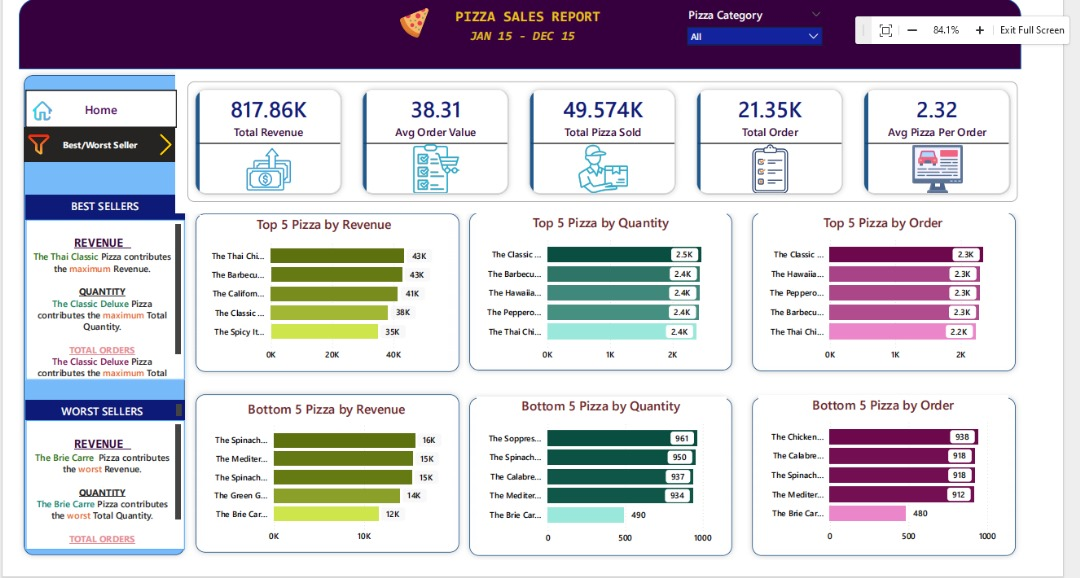

Layout of this report page (visuals, bound fields, positions):
{"tool":"powerbi","page":{"name":"Best/Worst Seller","canvas":[1500,820],"ordinal":1},"visuals":[{"type":"shape","box":[0,0,1463.3,103.3],"z":0},{"type":"cardVisual","fields":{"Data":["pizza_sales.Total Revenue","pizza_sales.Avg Order Value","pizza_sales.Total Pizza Sold","pizza_sales.Total Order","pizza_sales.Avg Pizza Per Order"]},"box":[228.7,104,1246.7,210],"z":0,"group":"g2"},{"type":"textbox","box":[596.5,7.9,305.1,53.1],"z":1000},{"type":"textbox","box":[641.7,39.4,187,43.3],"z":2000},{"type":"image","box":[545.3,13.8,65,43.3],"z":3000},{"type":"shape","box":[250,307.1,399.6,246],"z":4000},{"type":"shape","box":[0,104,250,716],"z":5000},{"type":"textbox","box":[9.8,287.4,232.3,35.4],"z":6000},{"type":"textbox","box":[9.8,616.1,232.3,189],"z":7000},{"type":"textbox","box":[9.8,586.6,232.3,29.5],"z":8000},{"type":"textbox","box":[9.8,322.8,232.3,234.3],"z":9000},{"type":"slicer","fields":{"Values":["pizza_sales.pizza_category"]},"box":[964.6,7.9,218.5,74.8],"z":10000},{"type":"shape","box":[649.6,305.1,399.6,246],"z":11000},{"type":"shape","box":[1063,305.1,399.6,247],"z":12000},{"type":"shape","box":[250,570.9,399.6,246],"z":13000},{"type":"shape","box":[649.6,574.8,399.6,246.1],"z":14000},{"type":"shape","box":[1063,574.8,399.6,246.1],"z":15000},{"type":"barChart","title":"Top 5 Pizza by Revenue","fields":{"Y":["pizza_sales.Total Revenue"],"Category":["pizza_sales.pizza_name"]},"box":[264,316,364,222],"z":16000},{"type":"barChart","title":"Bottom 5 Pizza by Revenue","fields":{"Y":["pizza_sales.Total Revenue"],"Category":["pizza_sales.pizza_name"]},"box":[268,586,364,218],"z":17000},{"type":"barChart","title":"Top 5 Pizza by Quantity","fields":{"Y":["Sum(pizza_sales.quantity)"],"Category":["pizza_sales.pizza_name"]},"box":[668,314,364,224],"z":18000},{"type":"barChart","title":"Top 5 Pizza by Order","fields":{"Y":["pizza_sales.Total Order"],"Category":["pizza_sales.pizza_name"]},"box":[1080,314,364,224],"z":19000},{"type":"barChart","title":"Bottom 5 Pizza by Quantity","fields":{"Y":["Sum(pizza_sales.quantity)"],"Category":["pizza_sales.pizza_name"]},"box":[668,582,364,224],"z":20000},{"type":"barChart","title":"Bottom 5 Pizza by Order","fields":{"Y":["pizza_sales.Total Order"],"Category":["pizza_sales.pizza_name"]},"box":[1080,580,364,224],"z":21000},{"type":"group","id":"g1","title":"Group 1","box":[8,188,222,50],"z":22000},{"type":"group","id":"g2","title":"Group 2","box":[10,104,1465.3,210],"z":23000},{"type":"pageNavigator","box":[10,134,220,54],"z":23000,"group":"g2"},{"type":"pageNavigator","box":[8,188,222,50],"z":24000,"group":"g1"},{"type":"image","box":[199.4,188,30.6,50],"z":25000,"group":"g1"},{"type":"image","box":[8,188,42.1,50],"z":26000,"group":"g1"},{"type":"image","box":[20,138.7,28,50],"z":27000,"group":"g2"}]}

Visuals, with their boxes on the page's 1500x820 design canvas (x1, y1, x2, y2). These are canvas units, not pixel positions in the 1080x578 screenshot, which may show the page scaled, cropped or inside an application window:
shape: bbox(0, 0, 1463, 103)
cardVisual - pizza_sales.Total Revenue x pizza_sales.Avg Order Value: bbox(229, 104, 1475, 314)
textbox: bbox(596, 8, 902, 61)
textbox: bbox(642, 39, 829, 83)
image: bbox(545, 14, 610, 57)
shape: bbox(250, 307, 650, 553)
shape: bbox(0, 104, 250, 820)
textbox: bbox(10, 287, 242, 323)
textbox: bbox(10, 616, 242, 805)
textbox: bbox(10, 587, 242, 616)
textbox: bbox(10, 323, 242, 557)
slicer - pizza_sales.pizza_category: bbox(965, 8, 1183, 83)
shape: bbox(650, 305, 1049, 551)
shape: bbox(1063, 305, 1463, 552)
shape: bbox(250, 571, 650, 817)
shape: bbox(650, 575, 1049, 821)
shape: bbox(1063, 575, 1463, 821)
"Top 5 Pizza by Revenue" barChart: bbox(264, 316, 628, 538)
"Bottom 5 Pizza by Revenue" barChart: bbox(268, 586, 632, 804)
"Top 5 Pizza by Quantity" barChart: bbox(668, 314, 1032, 538)
"Top 5 Pizza by Order" barChart: bbox(1080, 314, 1444, 538)
"Bottom 5 Pizza by Quantity" barChart: bbox(668, 582, 1032, 806)
"Bottom 5 Pizza by Order" barChart: bbox(1080, 580, 1444, 804)
"Group 1" group: bbox(8, 188, 230, 238)
"Group 2" group: bbox(10, 104, 1475, 314)
pageNavigator: bbox(10, 134, 230, 188)
pageNavigator: bbox(8, 188, 230, 238)
image: bbox(199, 188, 230, 238)
image: bbox(8, 188, 50, 238)
image: bbox(20, 139, 48, 189)
